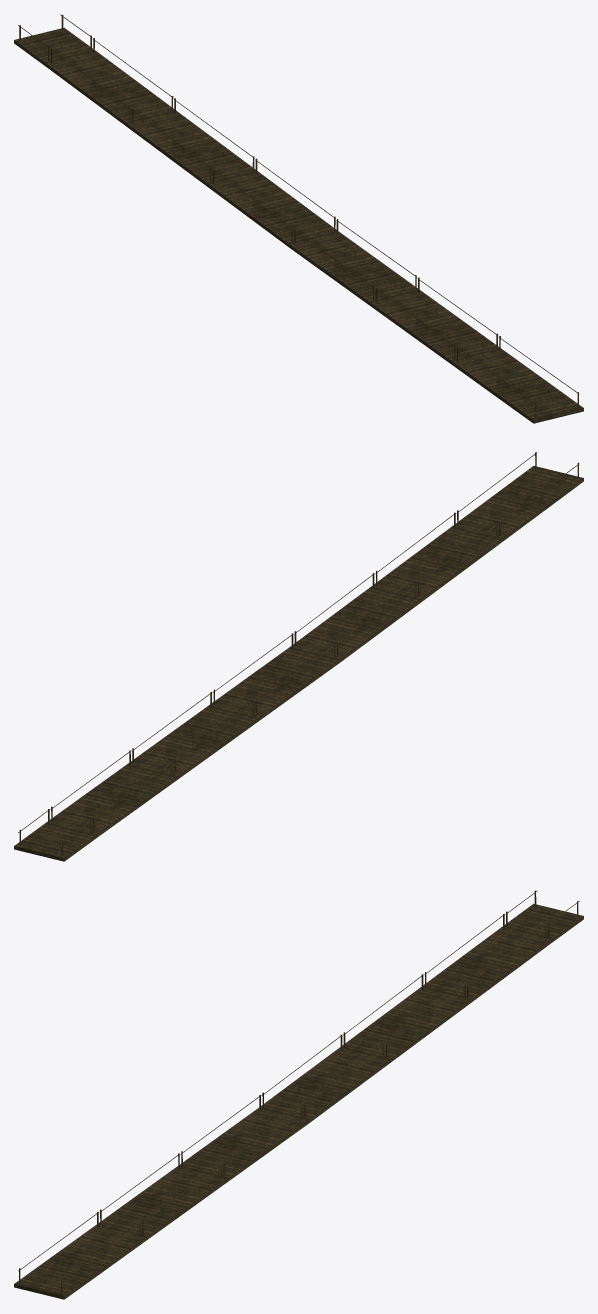
Rendered from thm_endr_village_tree_catwlk_64m_s01_l2.fbx.
3 renders of one model, top to bottom at view 1: azimuth 30°, elevation 25°; view 2: azimuth 150°, elevation 25°; view 3: azimuth 330°, elevation 25°, orthographic.
Parts seen in each view (by area): view 1: mesh_node; view 2: mesh_node; view 3: mesh_node.
Boxes of the visible parts, box(x1,y1,x2,y2) form: mesh_node: box(14, 14, 583, 423); mesh_node: box(14, 452, 583, 861); mesh_node: box(14, 890, 583, 1299).
Size of the model in its own units: 3.58 by 1.47 by 64.
